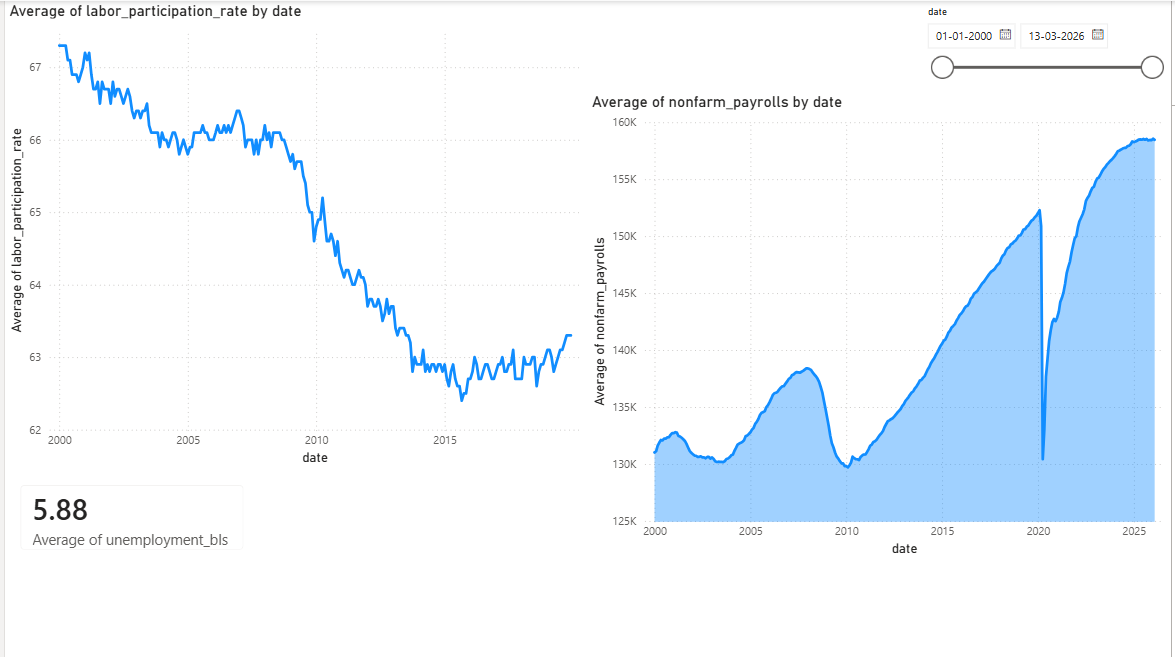

The page's visual inventory and layout, read from the dashboard file:
{"tool":"powerbi","page":{"name":"Labor Market","canvas":[1280,720],"ordinal":1},"visuals":[{"type":"areaChart","fields":{"Y":["Avg(economic_data.nonfarm_payrolls)"],"Category":["economic_data.date"]},"box":[639.5,100.2,640.8,514.6],"z":0},{"type":"lineChart","fields":{"Y":["Avg(economic_data.labor_participation_rate)"],"Category":["economic_data.date"]},"box":[0,0,639.5,514.6],"z":1},{"type":"cardVisual","fields":{"Data":["Avg(economic_data.unemployment_bls)"]},"box":[0,514.6,279.9,105.7],"z":2},{"type":"slicer","fields":{"Values":["economic_data.date"]},"box":[1000.3,0,279.9,100.2],"z":3}]}

Visuals, with their boxes in screenshot pixels (x1, y1, x2, y2), scaled from the page's 1280x720 canvas onto the 1175x657 screenshot:
areaChart - Avg(economic_data.nonfarm_payrolls) x economic_data.date: locate(587, 91, 1174, 561)
lineChart - Avg(economic_data.labor_participation_rate) x economic_data.date: locate(0, 0, 587, 470)
cardVisual - Avg(economic_data.unemployment_bls): locate(0, 470, 257, 566)
slicer - economic_data.date: locate(918, 0, 1174, 91)
